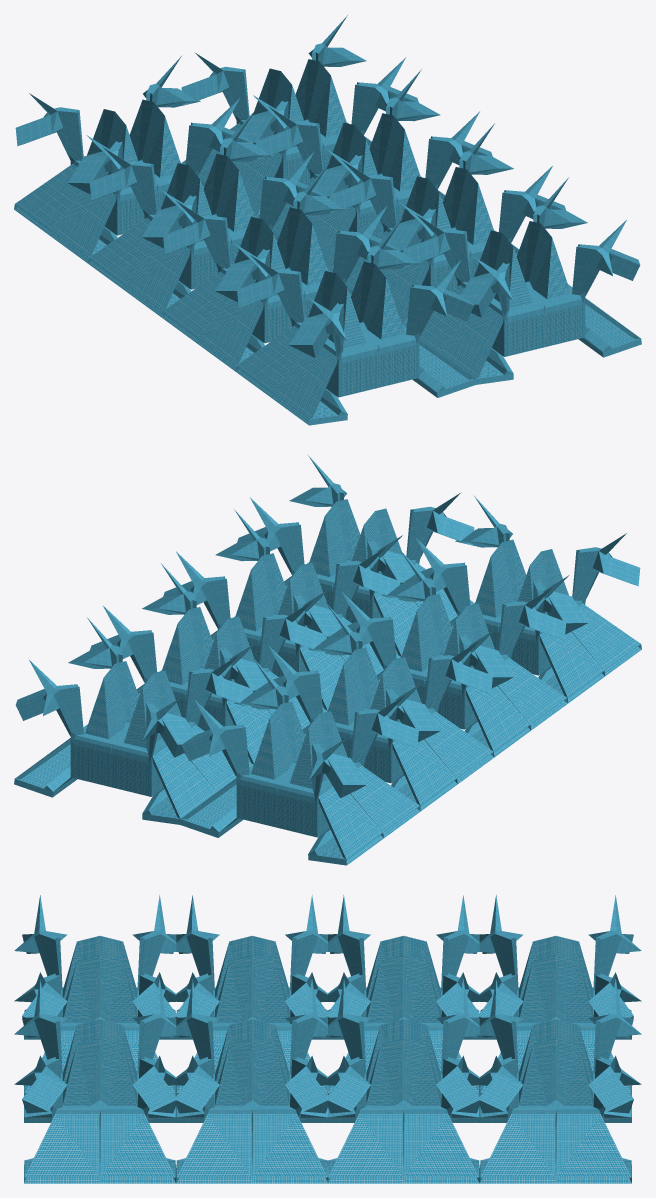
File: largerSafeSpot.fbx
The picture shows the model from 3 angles, top to bottom: view 1: azimuth 30°, elevation 25°; view 2: azimuth 150°, elevation 25°; view 3: azimuth 270°, elevation 25°; orthographic projection. The views are drawn at different scales.
Parts seen in each view (by area): view 1: Cube; view 2: Cube; view 3: Cube.
Boxes of the visible parts, x1,y1,x2,y2 form: Cube: (14,15,641,425); Cube: (14,455,641,865); Cube: (14,895,641,1183).
Size of the model in its own units: 1728 by 592 by 2609.
